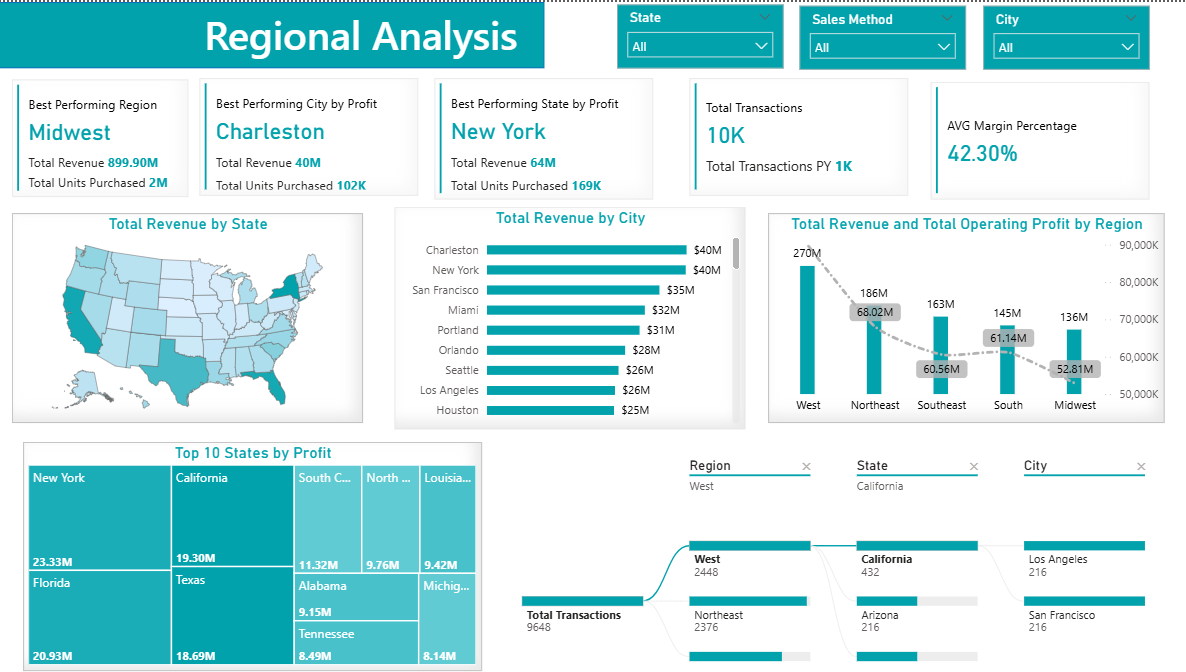

The page's visual inventory and layout, read from the dashboard file:
{"tool":"powerbi","page":{"name":"Regional Analysis","canvas":[1280,720],"ordinal":1},"visuals":[{"type":"textbox","box":[863.4,0,205.8,61.9],"z":0},{"type":"cardVisual","fields":{"Data":["Min(Sales Details.Region)"]},"box":[16.1,83.4,189.6,126.4],"z":1000},{"type":"cardVisual","fields":{"Data":["Min(Sales Details.City)"]},"box":[217.9,82,235.3,126.4],"z":2000},{"type":"cardVisual","fields":{"Data":["Min(Sales Details.State)"]},"box":[470.7,82,235.3,130],"z":3000},{"type":"cardVisual","fields":{"Data":["Measures Table.Total Transactions"]},"box":[745,82,235.3,126.4],"z":4000},{"type":"cardVisual","fields":{"Data":["Measures Table.AVG Margin Percentage"]},"box":[1004.6,86.1,235.3,126.4],"z":5000},{"type":"barChart","title":"Total Revenue by City","fields":{"Y":["Measures Table.Total Revenue"],"Category":["Sales Details.City"]},"box":[427.7,220.6,377.9,239.4],"z":6000},{"type":"lineStackedColumnComboChart","fields":{"Category":["Sales Details.Region"],"Y":["Measures Table.Total Revenue"],"Y2":["Measures Table.Total Operating Profit"]},"box":[829.8,227.3,426.3,225.9],"z":7000},{"type":"slicer","fields":{"Values":["Sales Details.Sales Method"]},"box":[863.4,4,178.9,68.6],"z":8000},{"type":"slicer","fields":{"Values":["Sales Details.State"]},"box":[667,2.7,178.9,68.6],"z":9000},{"type":"slicer","fields":{"Values":["Sales Details.City"]},"box":[1061.1,4,178.9,68.6],"z":10000},{"type":"shape","box":[0,0,589,71.3],"z":11000},{"type":"textbox","box":[217.9,0,352.3,76.7],"z":12000},{"type":"shapeMap","fields":{"Category":["Sales Details.State"],"Value":["Measures Table.Total Revenue"]},"box":[16.1,227.3,377.9,225.9],"z":13000},{"type":"treemap","title":"Top 10 States by Profit","fields":{"Group":["Sales Details.State"],"Values":["Measures Table.Total Operating Profit"]},"box":[28.2,473.4,493.6,246.1],"z":14000},{"type":"decompositionTreeVisual","fields":{"ExplainBy":["Sales Details.Region","Sales Details.State","Sales Details.City"],"Analyze":["Measures Table.Total Transactions"]},"box":[535.2,473.4,745,246.1],"z":15000}]}

Visuals, with their boxes in screenshot pixels (x1, y1, x2, y2), scaled from the page's 1280x720 canvas onto the 1186x672 screenshot:
textbox: <bbox>800, 0, 991, 58</bbox>
cardVisual - Min(Sales Details.Region): <bbox>15, 78, 191, 196</bbox>
cardVisual - Min(Sales Details.City): <bbox>202, 77, 420, 195</bbox>
cardVisual - Min(Sales Details.State): <bbox>436, 77, 654, 198</bbox>
cardVisual - Measures Table.Total Transactions: <bbox>690, 77, 908, 195</bbox>
cardVisual - Measures Table.AVG Margin Percentage: <bbox>931, 80, 1149, 198</bbox>
"Total Revenue by City" barChart: <bbox>396, 206, 746, 429</bbox>
lineStackedColumnComboChart - Sales Details.Region x Measures Table.Total Revenue: <bbox>769, 212, 1164, 423</bbox>
slicer - Sales Details.Sales Method: <bbox>800, 4, 966, 68</bbox>
slicer - Sales Details.State: <bbox>618, 3, 784, 67</bbox>
slicer - Sales Details.City: <bbox>983, 4, 1149, 68</bbox>
shape: <bbox>0, 0, 546, 67</bbox>
textbox: <bbox>202, 0, 528, 72</bbox>
shapeMap - Sales Details.State x Measures Table.Total Revenue: <bbox>15, 212, 365, 423</bbox>
"Top 10 States by Profit" treemap: <bbox>26, 442, 483, 671</bbox>
decompositionTreeVisual - Sales Details.Region x Sales Details.State: <bbox>496, 442, 1185, 671</bbox>
